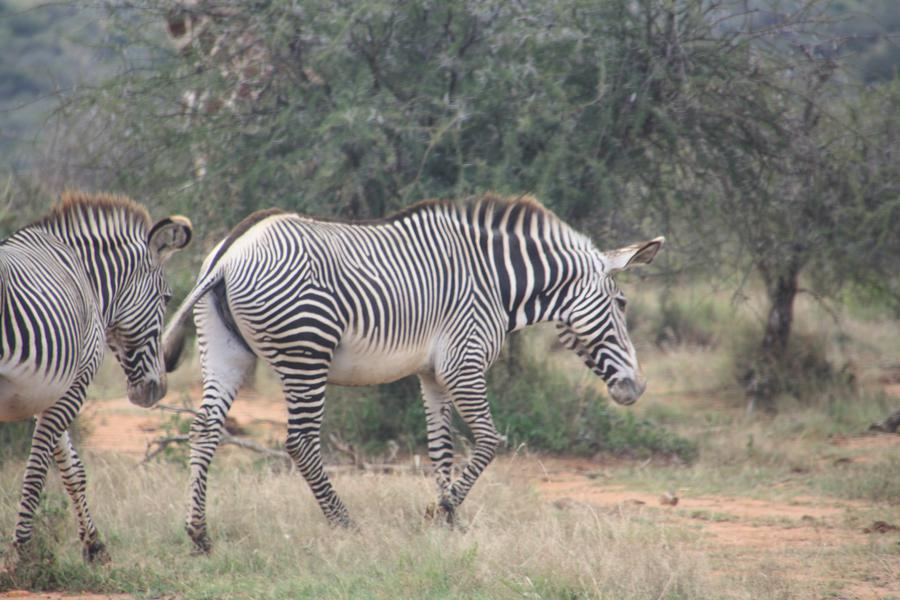zebra_grevys: (208, 203, 497, 371)
